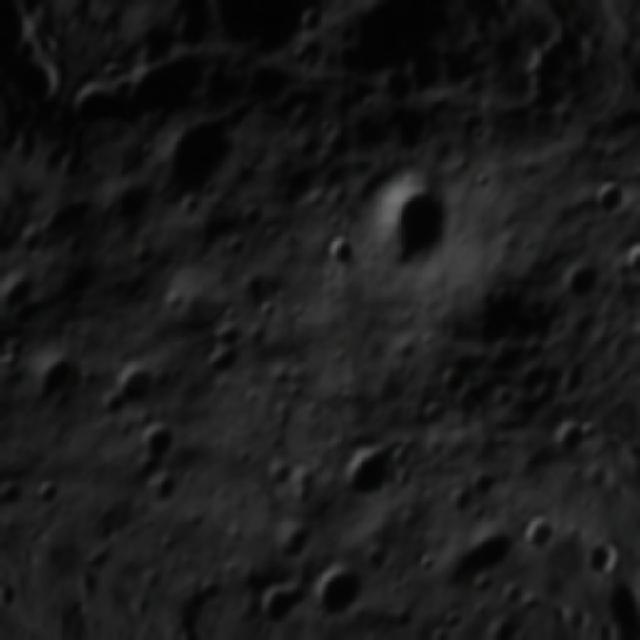crater: (337, 156, 471, 292), (144, 97, 258, 218), (178, 0, 336, 82), (428, 502, 526, 612), (326, 426, 416, 519), (184, 300, 265, 398), (92, 161, 175, 247), (230, 561, 314, 640), (22, 335, 102, 416), (300, 554, 374, 629), (99, 353, 173, 421), (450, 448, 516, 518), (508, 496, 574, 566), (362, 51, 428, 120), (572, 169, 640, 234), (536, 405, 598, 470), (552, 247, 612, 313), (128, 411, 190, 472), (259, 512, 319, 570), (313, 228, 361, 284), (624, 371, 640, 416)
